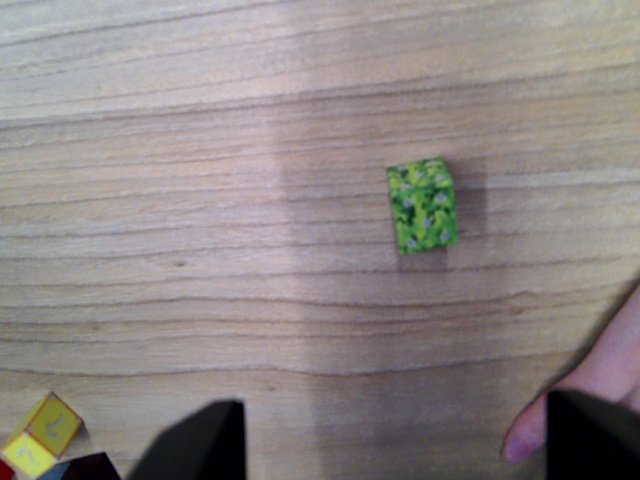grass: (379, 152, 460, 259)
